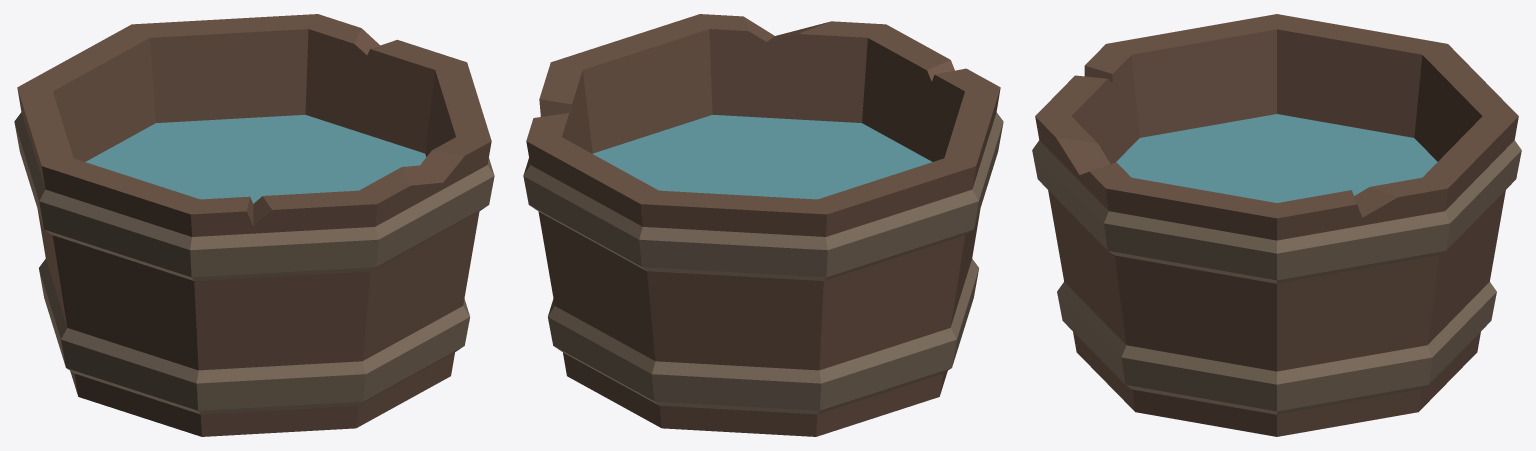
The model's file is Secchio_Acqua.fbx.
3 renders of one model, left to right at view 1: azimuth 30°, elevation 25°; view 2: azimuth 150°, elevation 25°; view 3: azimuth 270°, elevation 25°, orthographic.
Parts seen in each view (by area): view 1: Bucket.001; view 2: Bucket.001; view 3: Bucket.001.
Part boxes in pixels (left/top/right/bottom): Bucket.001: left=14, top=14, right=494, bottom=436; Bucket.001: left=523, top=14, right=1003, bottom=436; Bucket.001: left=1032, top=14, right=1521, bottom=436.
Size of the model in its own units: 96.79 by 51.48 by 96.79.
